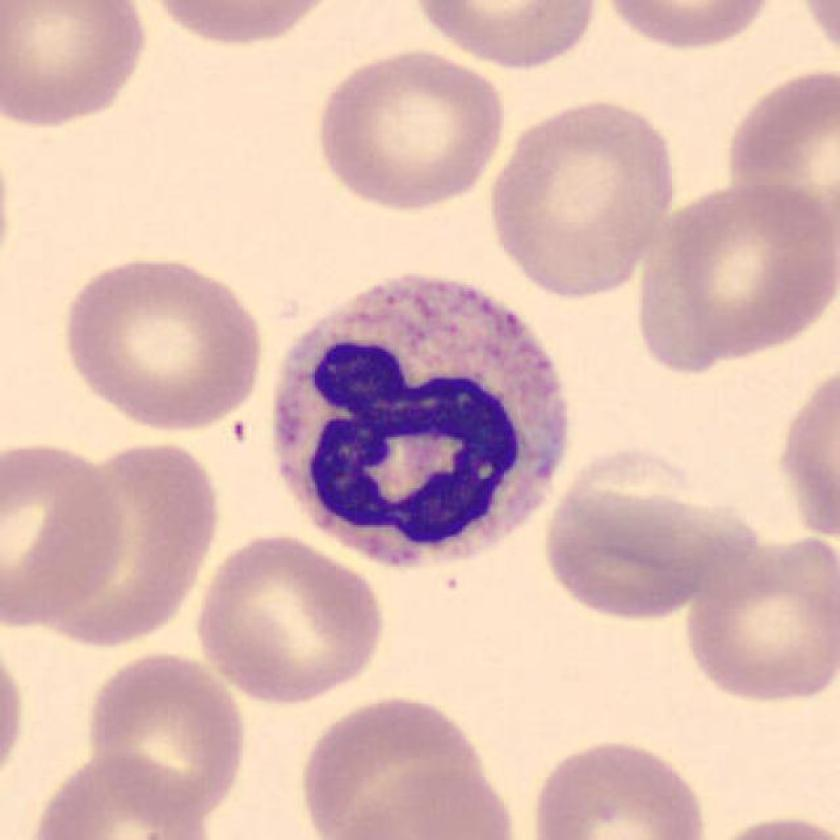neutrophil: (274, 278, 568, 565)
